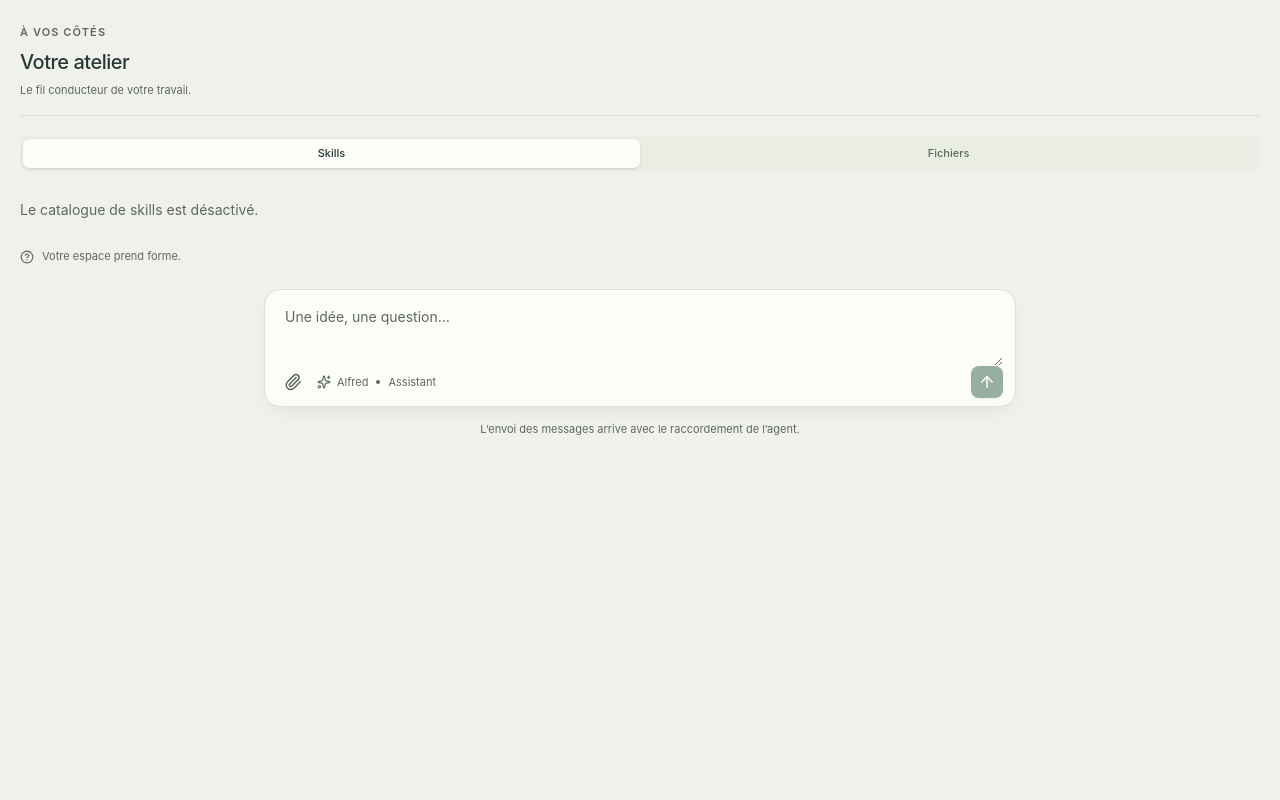
Test: Fichiers tab behind the fileUploads capability › attaches a file to the next message with one click, and only once
The image size is (1280, 800).
Click the tab "Fichiers" at (948, 154), box [640, 139, 1257, 168]
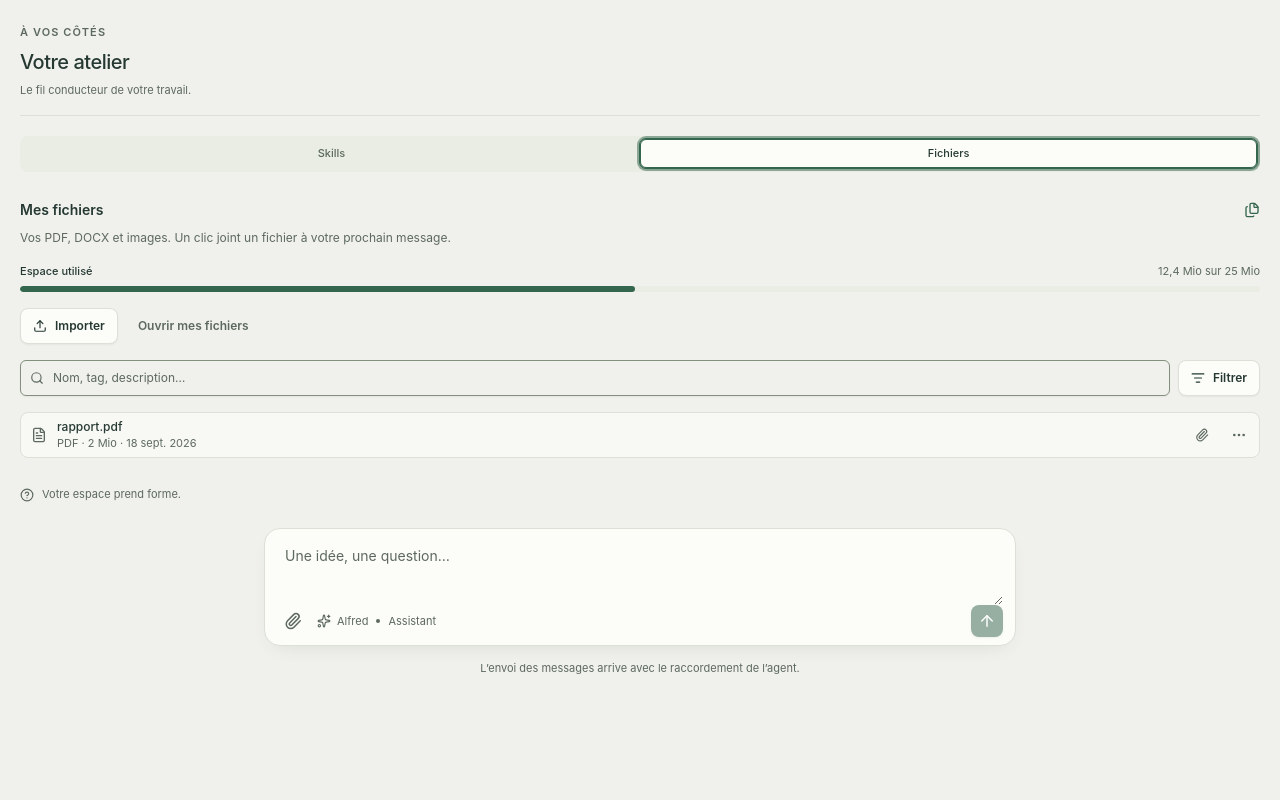
Click the button with aria-label "Joindre rapport.pdf au message" at (90, 426), box [21, 412, 1219, 457]
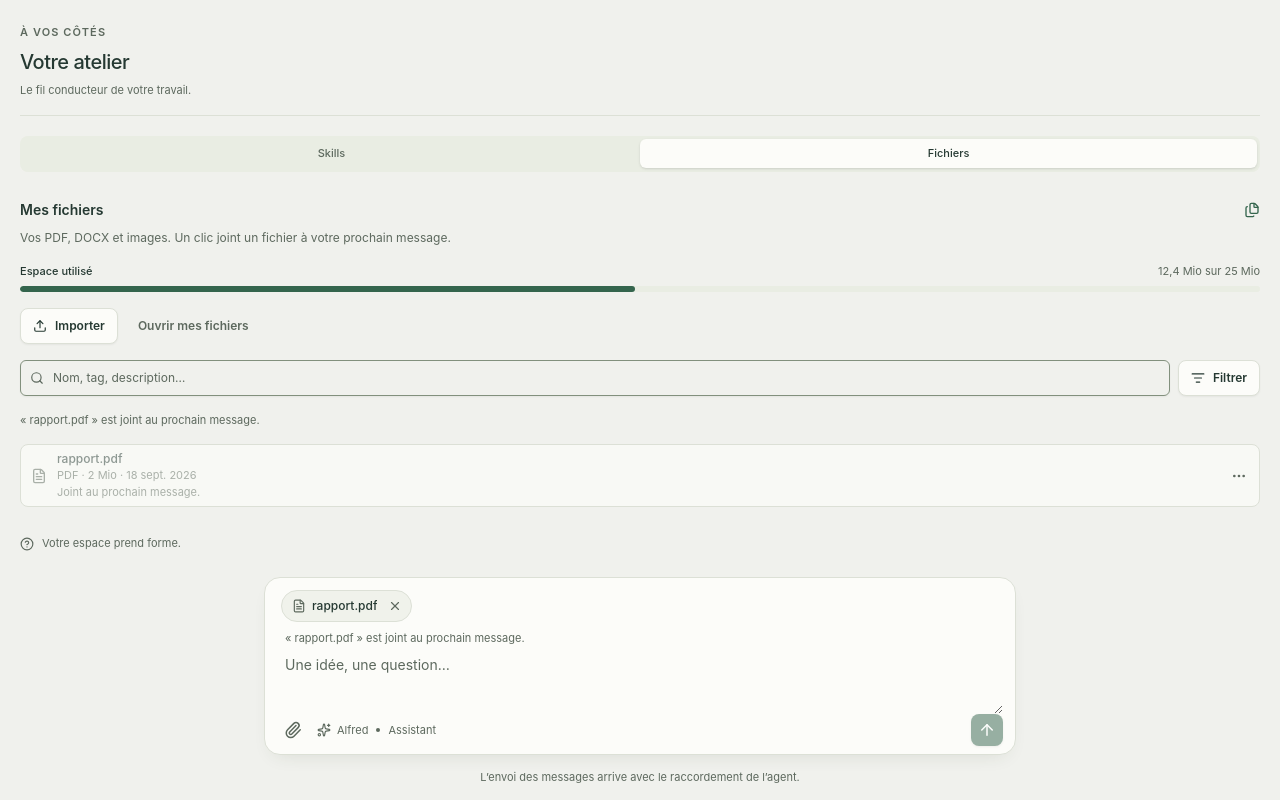
Expected: the 2nd text "rapport.pdf" is shown, [312, 598, 378, 614]
Expected: the text "« rapport.pdf » est joint au prochain message." below "Ouvrir mes fichiers" is shown, [20, 412, 260, 426]
Expected: the button with aria-label "Joindre rapport.pdf au message" is disabled, [21, 445, 1219, 506]
Click the button named "Retirer rapport.pdf" at (396, 606), box [384, 594, 408, 618]
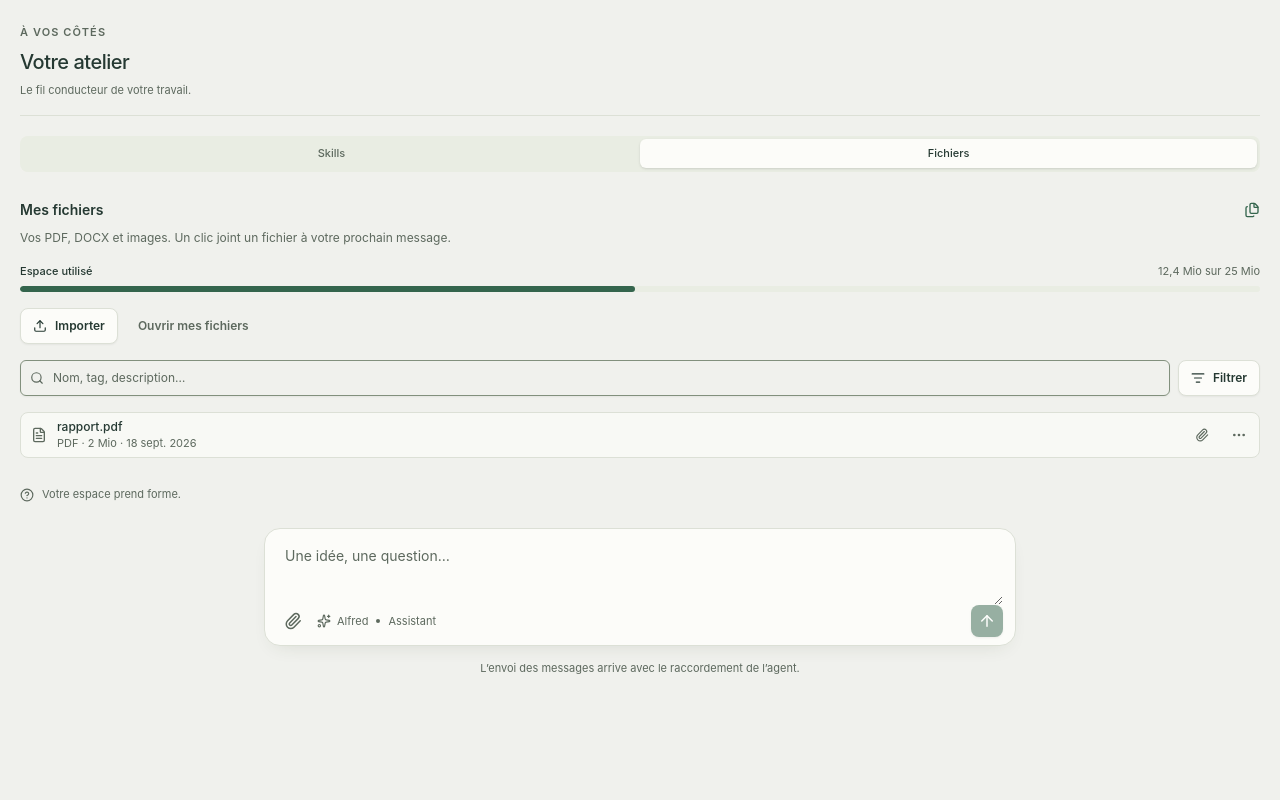
Expected: the button with aria-label "Joindre rapport.pdf au message" is enabled, [21, 412, 1219, 457]
